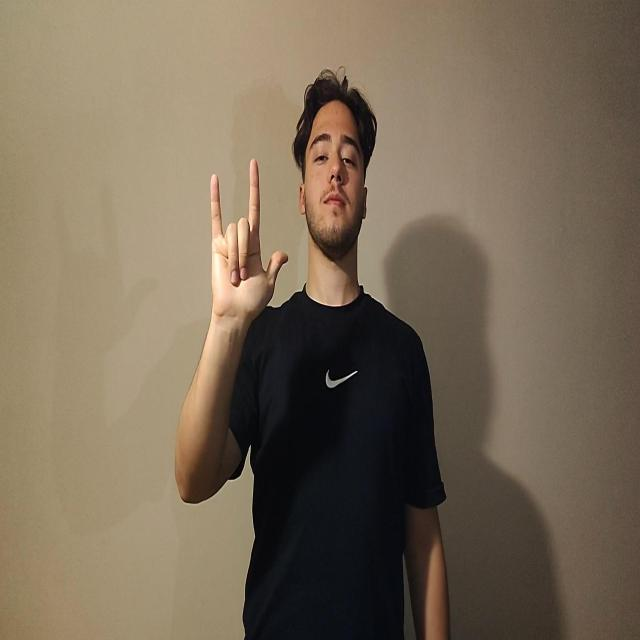iloveyou: (210, 157, 288, 328)
